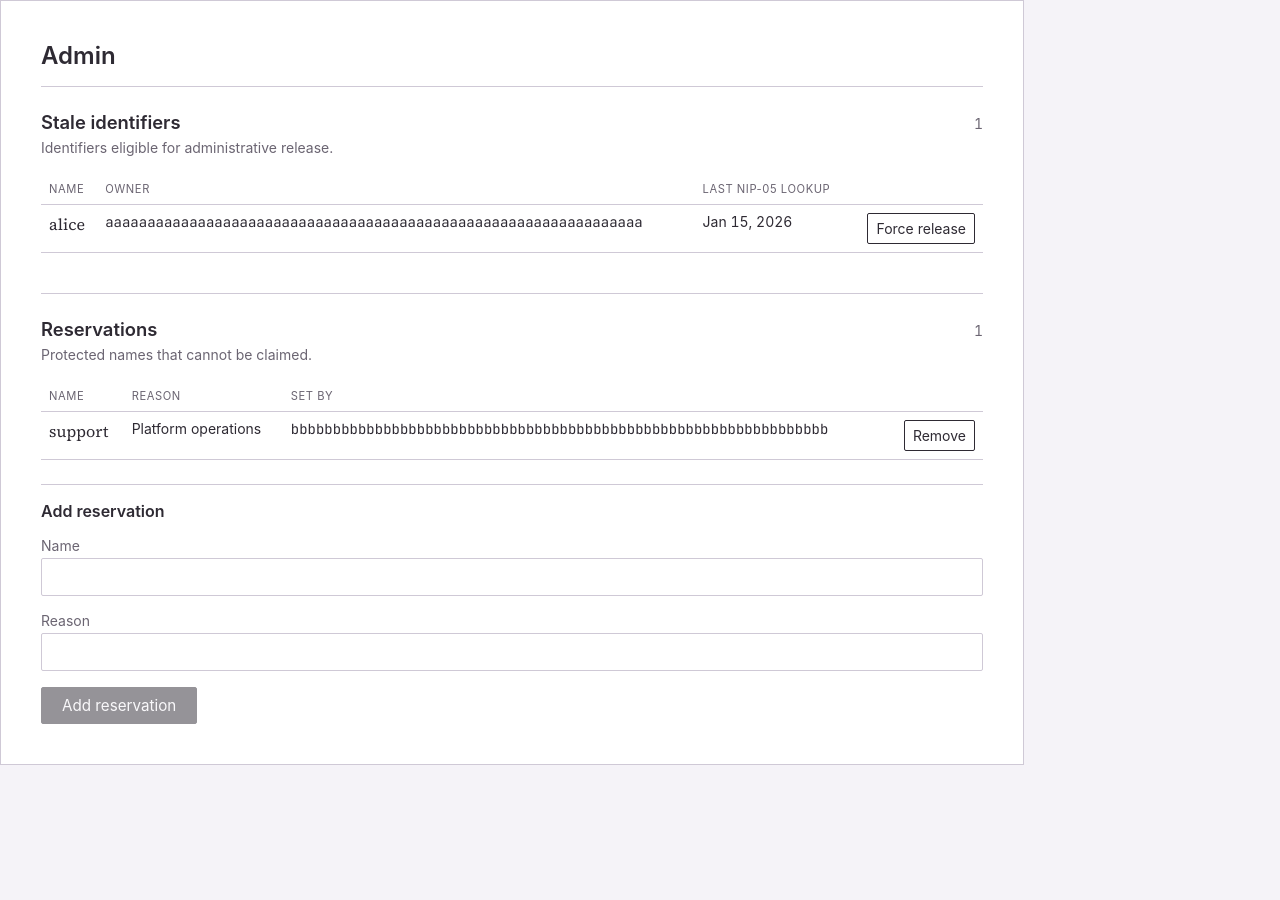
Test: admin reservation creation › submits trimmed values and appends the complete server-normalized reservation
Type "  draft-name  " into the field labelled "Name". click: point(512, 577)
box: [41,558,983,596]
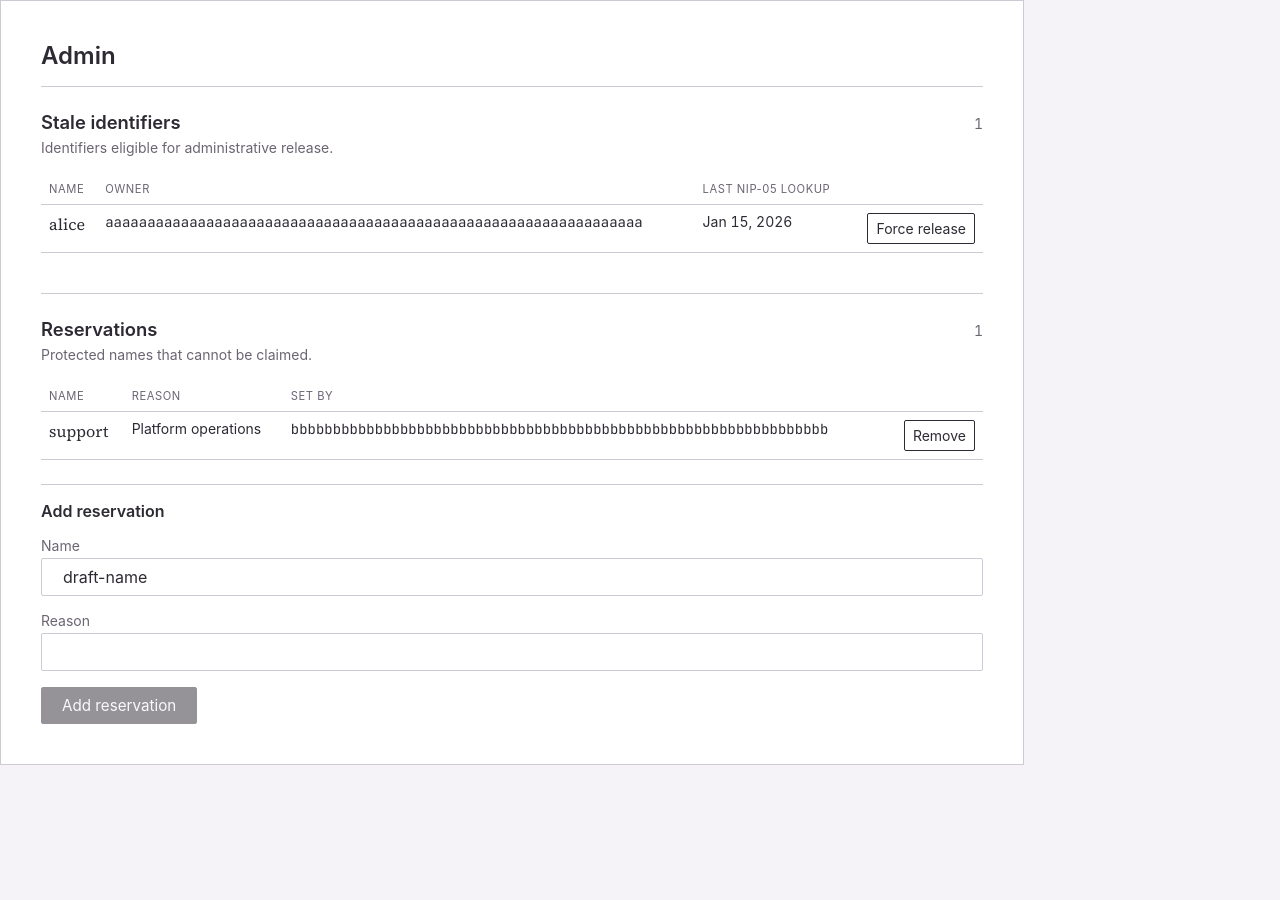
Type "  Staff use  " into the field labelled "Reason". click: point(512, 652)
box: [41,633,983,671]
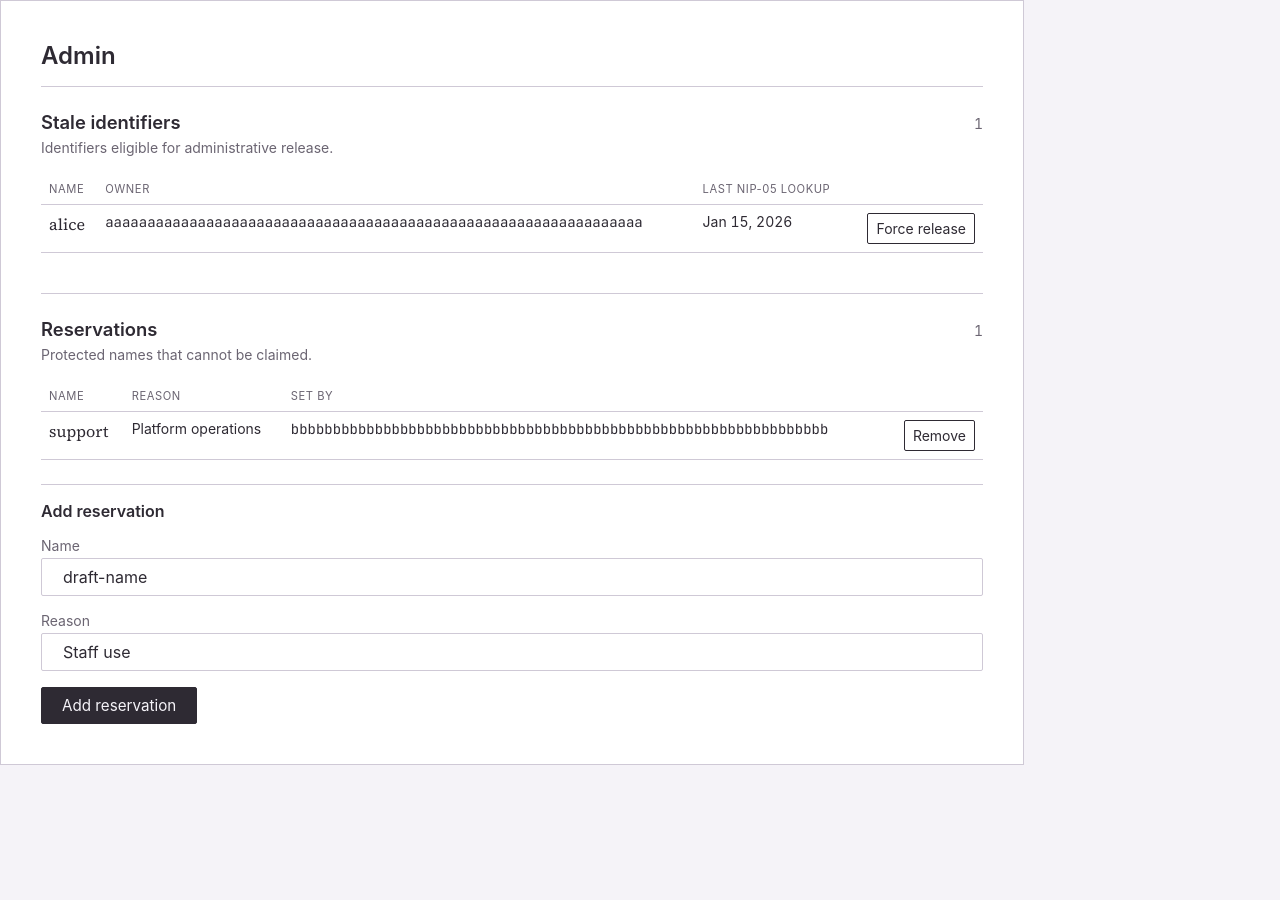
Click the button "Add reservation". click: point(119, 706)
box: [41,687,197,724]
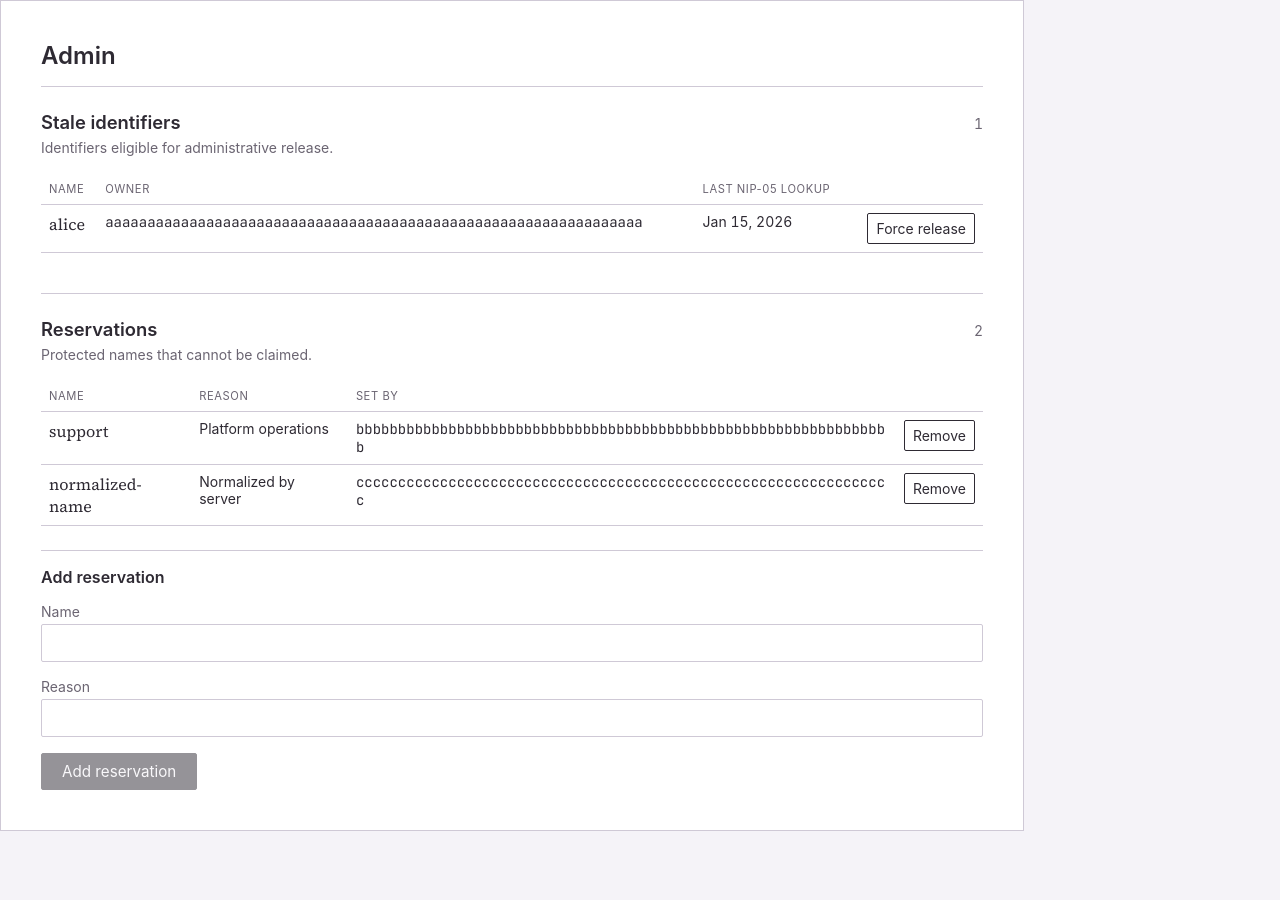
Now the text "normalized-name" is shown, box [41,464,191,526]
Now the text "Normalized by server" is shown, box [191,464,348,526]
